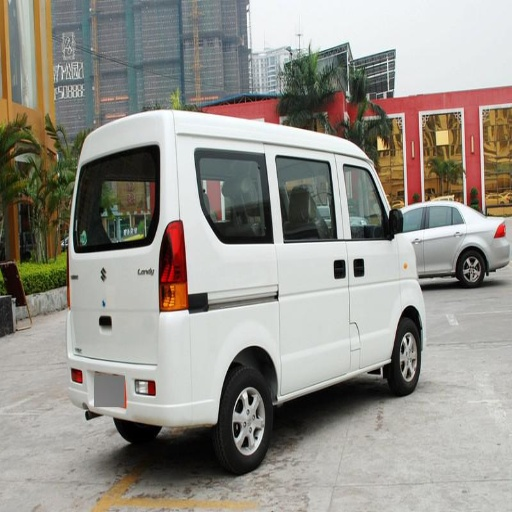back_bumper: (68, 349, 218, 426)
back_right_door: (199, 147, 346, 275)
trunk: (72, 252, 346, 414), (353, 216, 507, 353)
